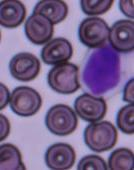L: (78, 40, 127, 98)
